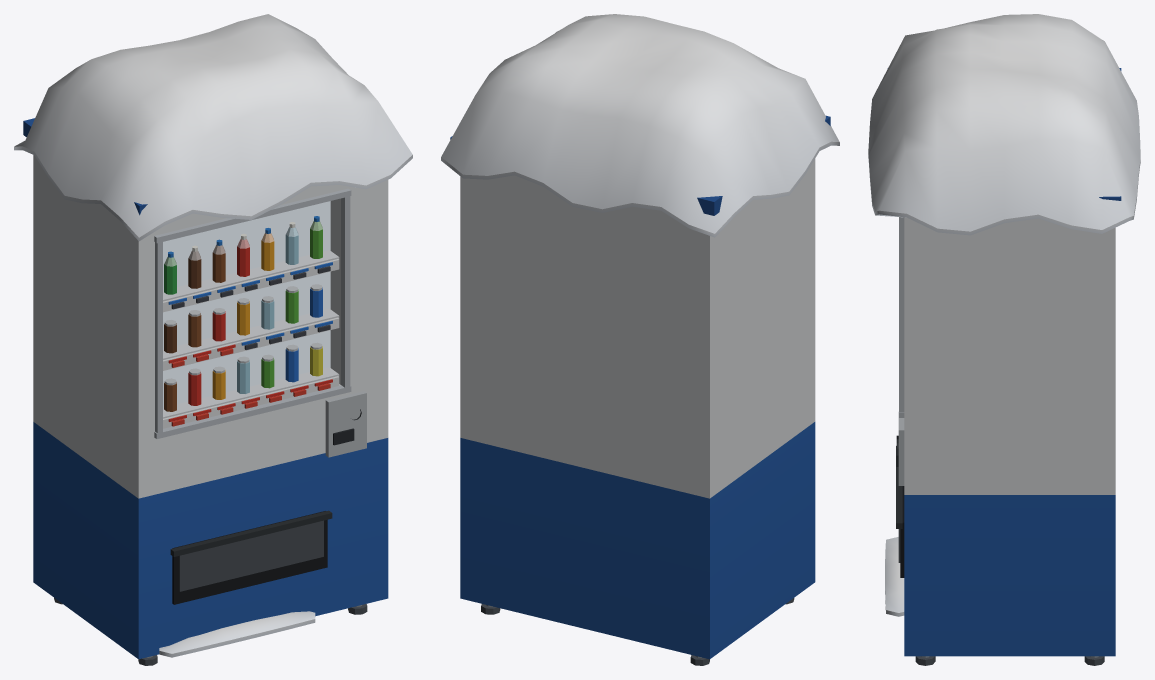
Rendered from vending_snow.glb.
3 renders of one model, left to right at view 1: azimuth 30°, elevation 25°; view 2: azimuth 150°, elevation 25°; view 3: azimuth 270°, elevation 25°, orthographic.
Visible parts, largest first — view 1: vending_snow; view 2: vending_snow; view 3: vending_snow.
Part boxes in pixels (box(x1,y1,x2,y2)): vending_snow: box(14, 14, 412, 665); vending_snow: box(441, 14, 839, 665); vending_snow: box(868, 14, 1140, 665).
Bounding box in the file's own units: 1.24 × 2.23 × 0.98.
